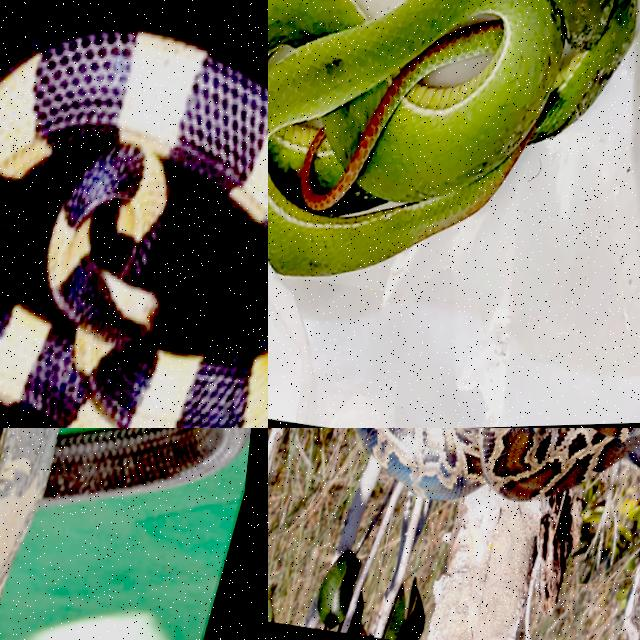Bungarus fasciatus: (0, 31, 267, 427)
Ophiophagus hannah: (0, 428, 250, 595)
Python bivittatus: (360, 428, 639, 500)
Trimeresurus: (268, 0, 637, 276)
